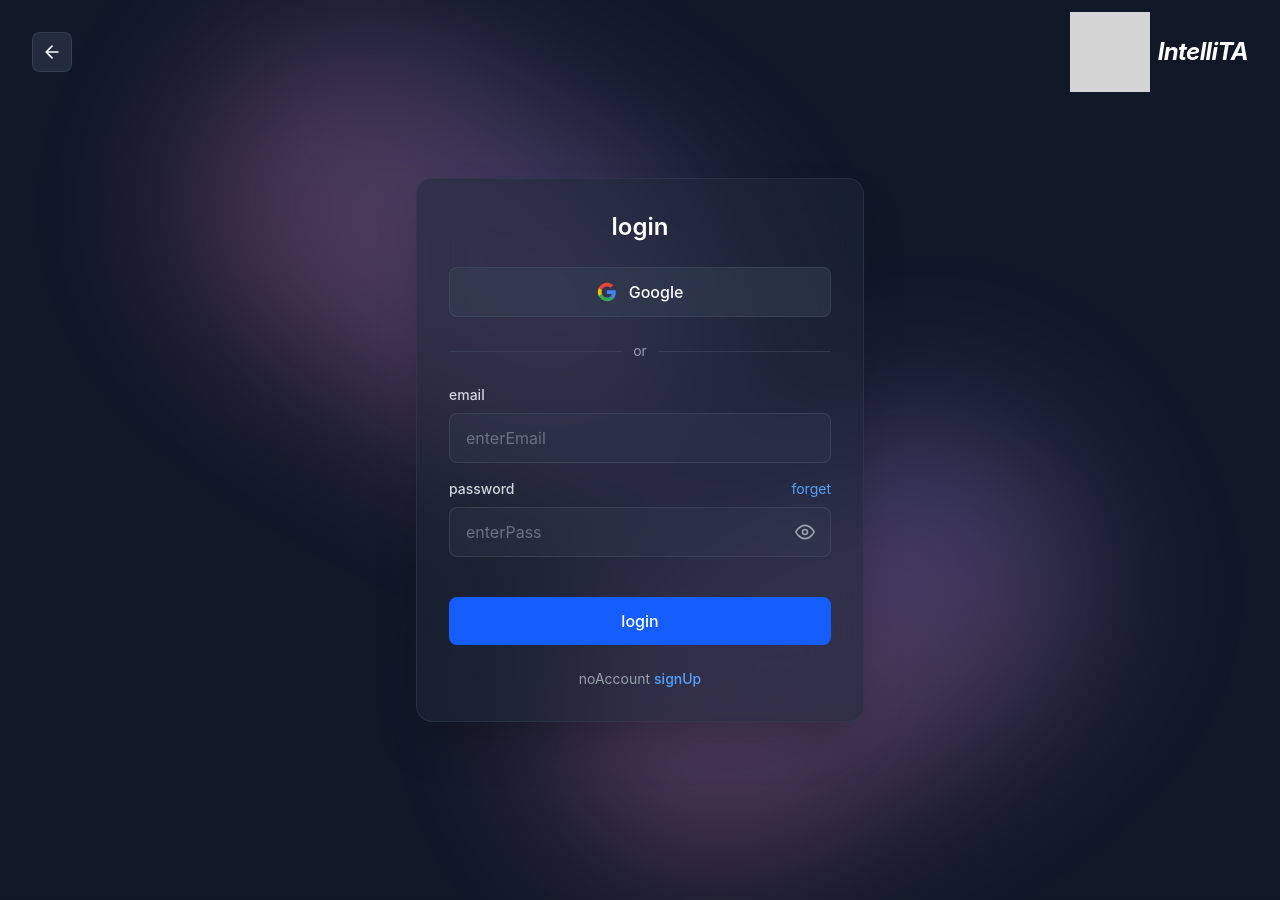
Login — email/password flow › network error displays errNetwork
This screenshot has width=1280, height=900.
Type "student@stu.kau.edu.sa" into the field labelled "email" at x=640, y=438, box x1=449 y1=413 x2=831 y2=463
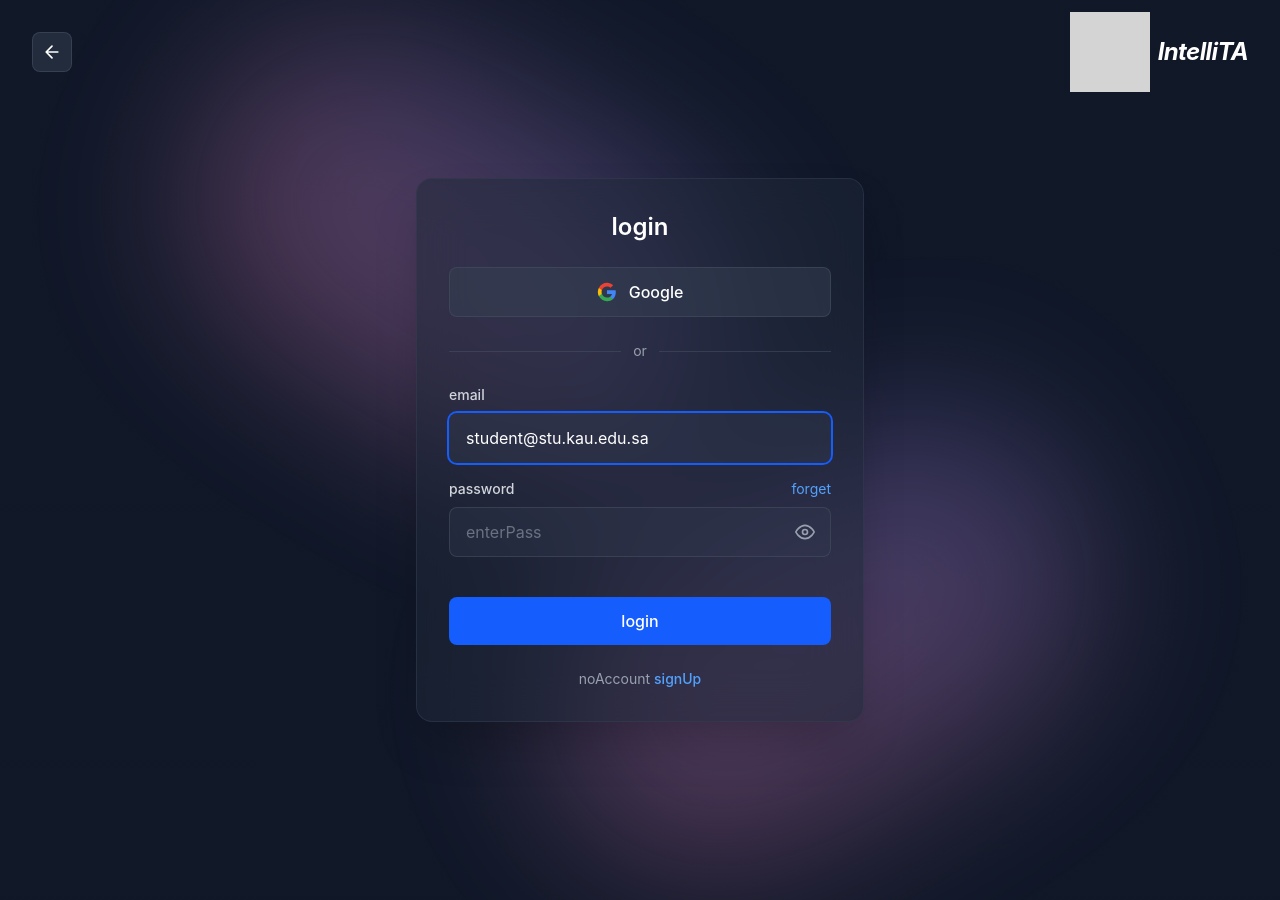
Type "password123" into the password field labelled "password" at x=640, y=532, box x1=449 y1=507 x2=831 y2=557
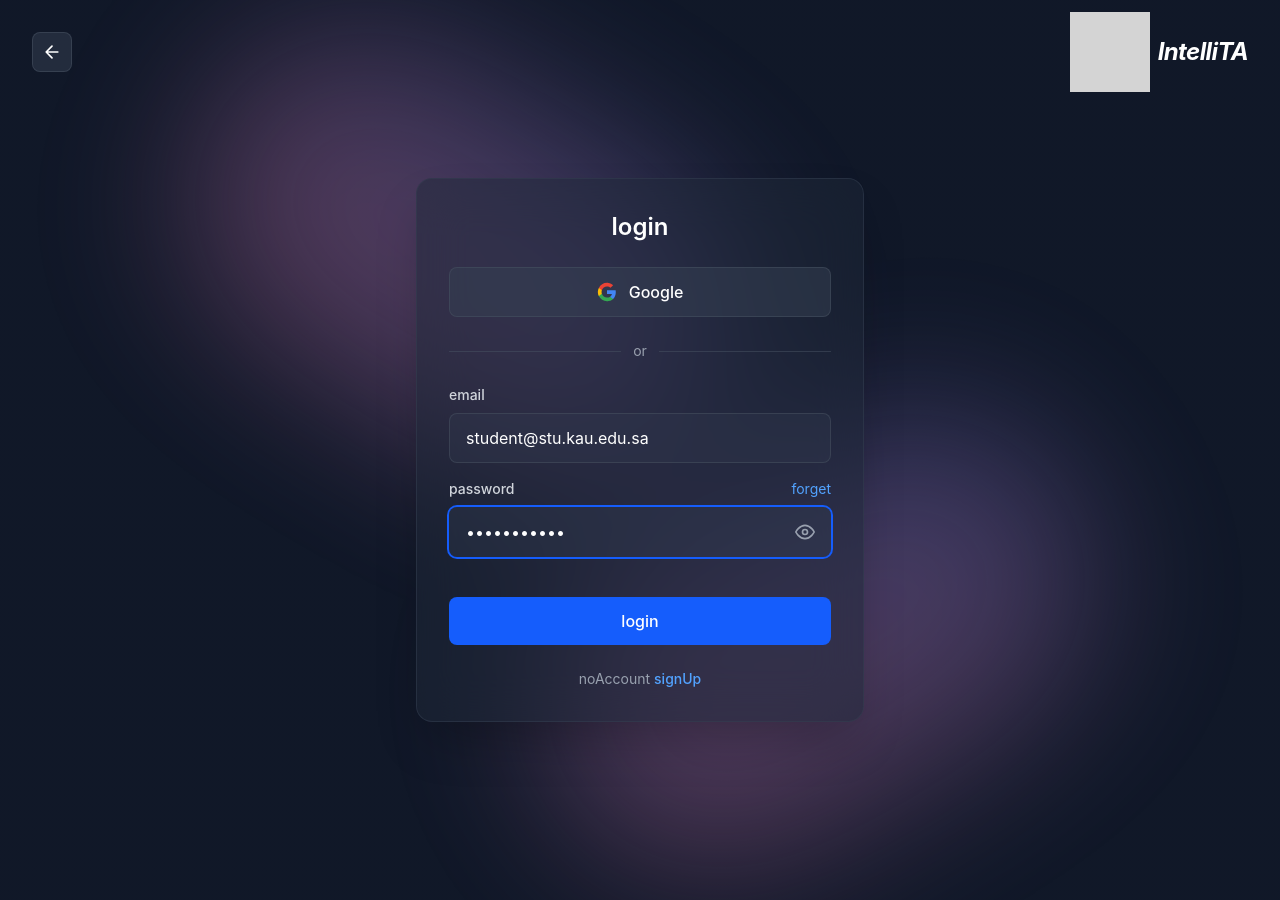
Click the submit button at x=640, y=621, box x1=449 y1=597 x2=831 y2=645
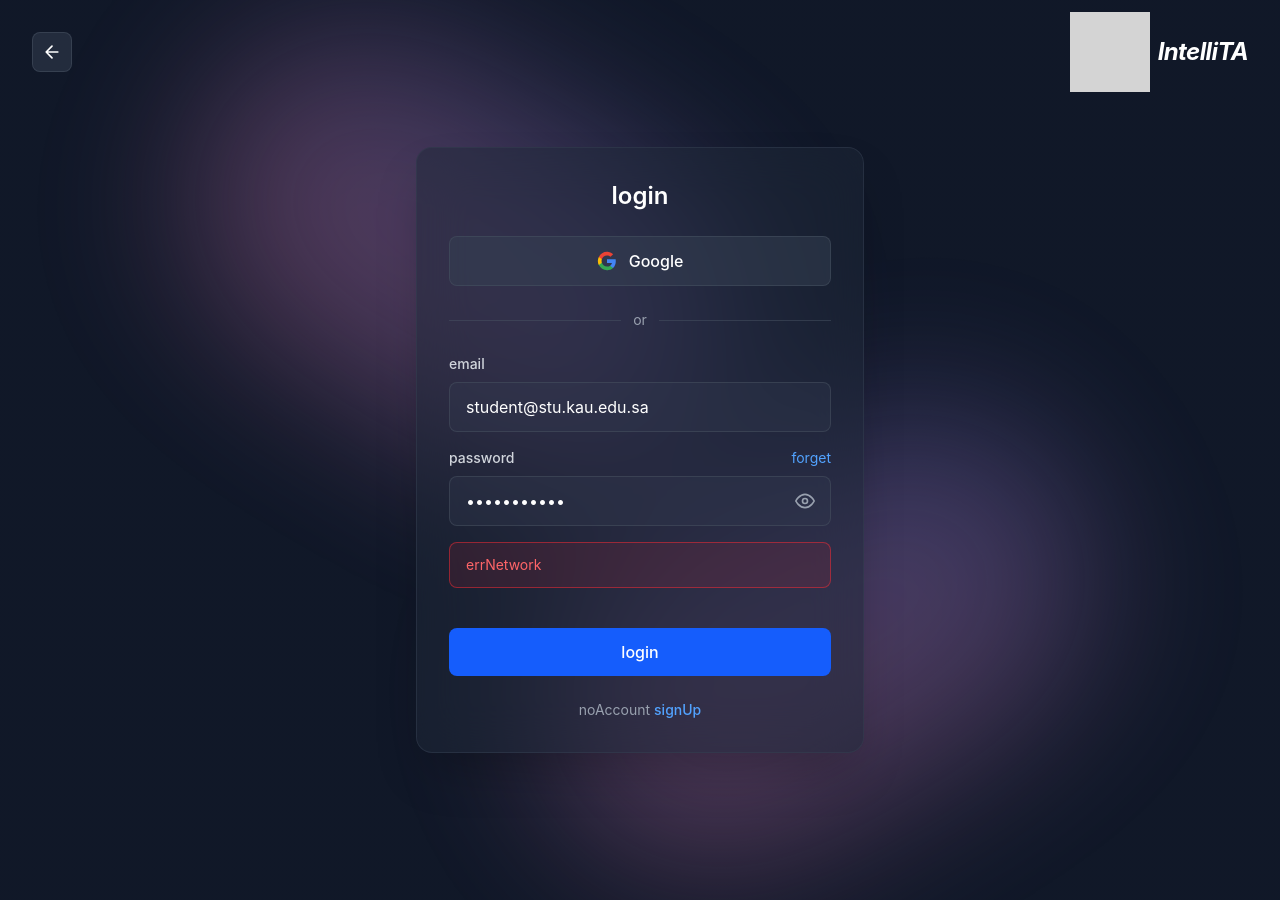
Check: the text "errNetwork" is shown, box x1=449 y1=542 x2=831 y2=588
